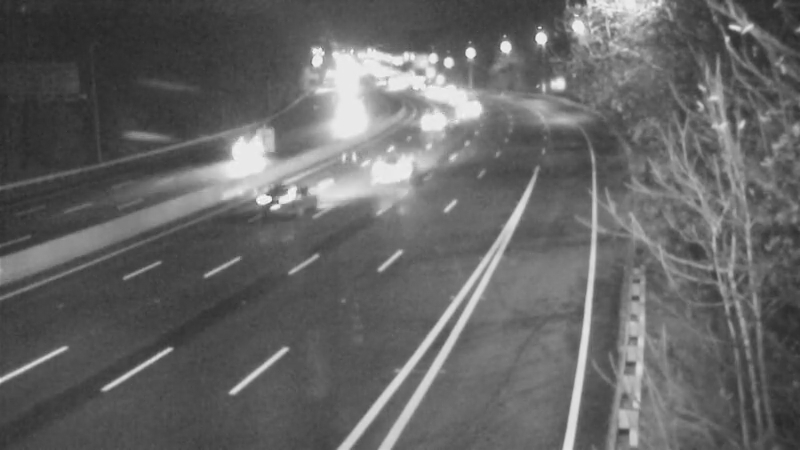vehicle: (350, 130, 430, 210), (242, 164, 322, 244), (426, 75, 476, 125), (447, 82, 497, 132), (412, 96, 462, 146), (218, 124, 268, 174), (317, 98, 367, 148)
